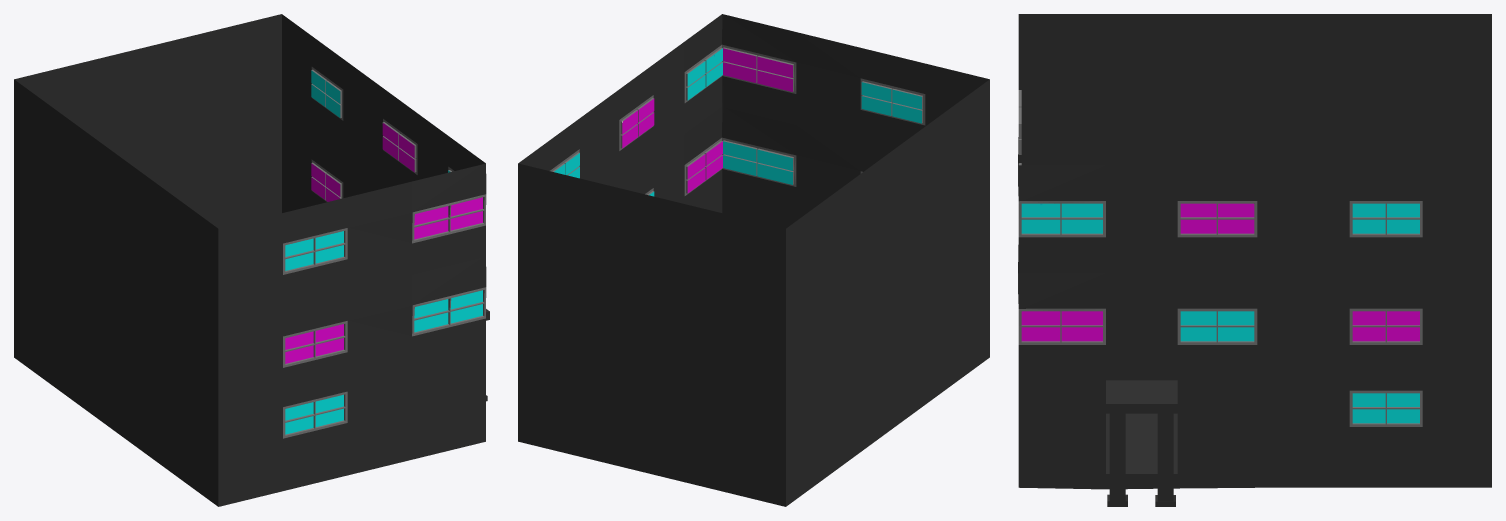
The model's file is building.obj.
3 renders of one model, left to right at view 1: azimuth 30°, elevation 25°; view 2: azimuth 150°, elevation 25°; view 3: azimuth 270°, elevation 25°, orthographic. The views are drawn at different scales.
Parts seen in each view (by area): view 1: Cube.012_Cube.013; view 2: Cube.012_Cube.013; view 3: Cube.012_Cube.013.
Boxes of the visible parts, x1,y1,x2,y2 form: Cube.012_Cube.013: (14, 14, 489, 506); Cube.012_Cube.013: (518, 14, 989, 506); Cube.012_Cube.013: (1018, 14, 1491, 506).
Size of the model in its own units: 17.38 by 15.02 by 19.91.
